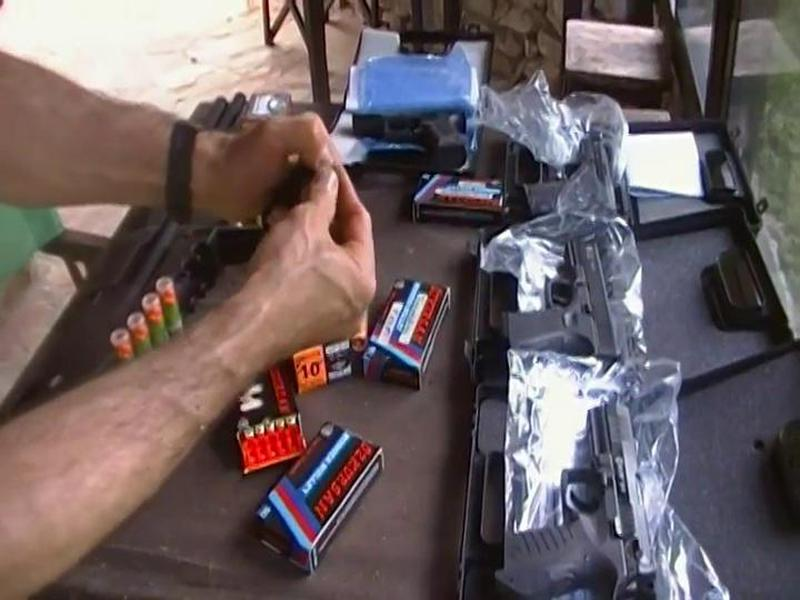Pistola: (488, 397, 699, 600), (483, 227, 645, 373)
